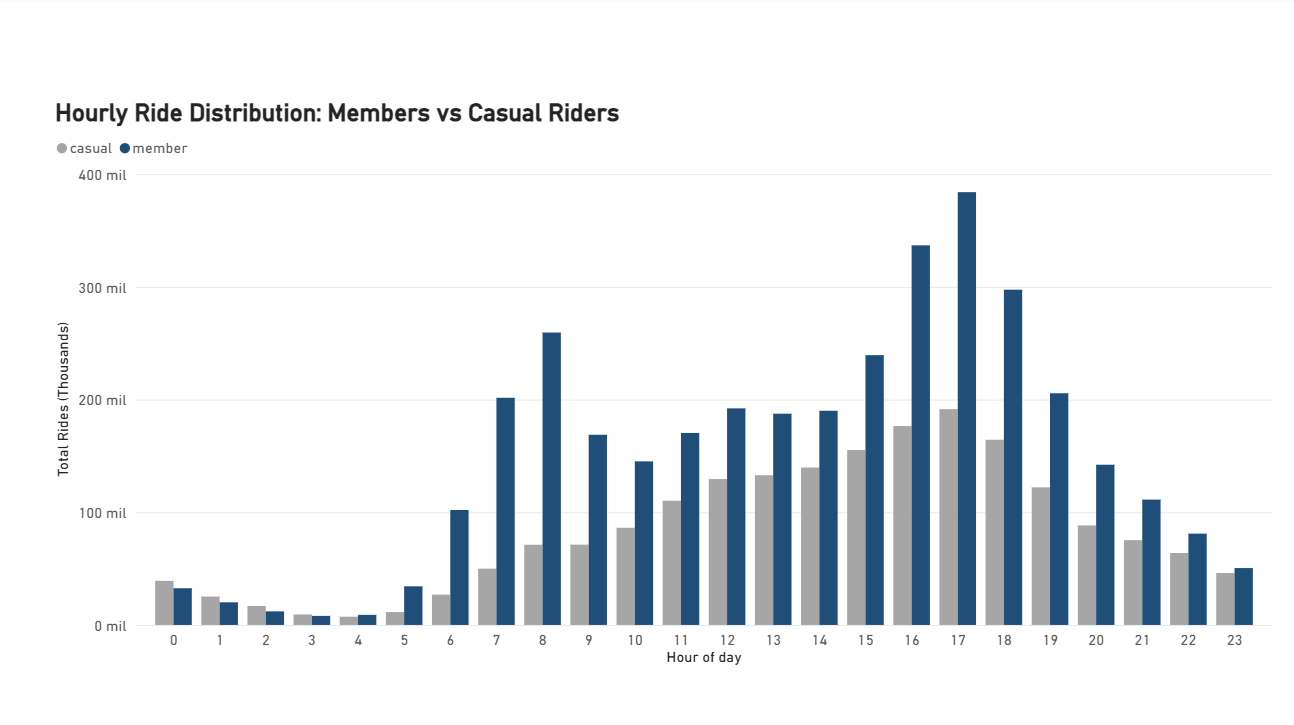

What the dashboard file says about the page in this screenshot:
{"tool":"powerbi","page":{"name":"3 Hour analysis","canvas":[1280,720],"ordinal":2},"visuals":[{"type":"clusteredColumnChart","title":"Hourly Ride Distribution: Members vs Casual Riders","fields":{"Category":["rides_by_hour.hour_of_day"],"Series":["rides_by_hour.member_casual"],"Y":["Sum(rides_by_hour.total_rides)"]},"box":[55,100,1200,560],"z":0}]}

Visuals, with their boxes in screenshot pixels (x1, y1, x2, y2), scaled from the page's 1280x720 canvas onto the 1294x725 screenshot:
"Hourly Ride Distribution: Members vs Casual Riders" clusteredColumnChart: 56/101/1269/665
